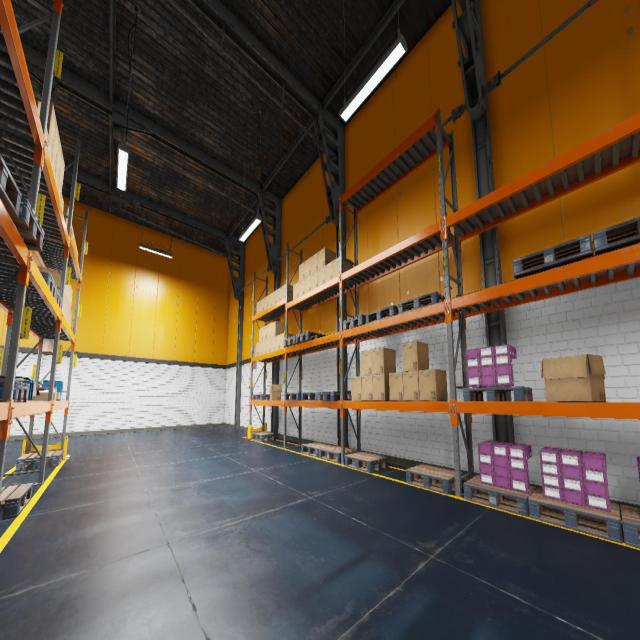box: (541, 354, 606, 402), (37, 265, 67, 300), (419, 368, 447, 401), (40, 96, 56, 152), (402, 341, 429, 372), (372, 347, 396, 375), (372, 374, 390, 401), (403, 370, 419, 400), (389, 372, 404, 401), (333, 256, 353, 277), (318, 247, 336, 270), (361, 375, 373, 401), (361, 350, 372, 376), (280, 332, 296, 349), (53, 122, 59, 167), (39, 386, 57, 400), (56, 138, 62, 180), (59, 152, 65, 192), (351, 376, 361, 400), (268, 384, 282, 400), (271, 321, 285, 337), (33, 91, 41, 115), (281, 284, 293, 300), (325, 261, 333, 282), (311, 252, 318, 274), (311, 270, 318, 290), (318, 266, 325, 286), (63, 204, 69, 227), (31, 392, 48, 400), (305, 257, 311, 278), (51, 154, 56, 178), (304, 274, 310, 294), (54, 169, 59, 191), (48, 137, 52, 164), (299, 262, 304, 282), (69, 288, 73, 311), (299, 278, 304, 296), (293, 282, 298, 299), (275, 334, 280, 350), (60, 193, 64, 212), (68, 283, 71, 308), (276, 287, 281, 302), (62, 297, 66, 315), (266, 338, 271, 352), (271, 336, 275, 352), (267, 323, 271, 339), (262, 325, 266, 341), (268, 292, 272, 308), (58, 182, 61, 202), (262, 339, 266, 354), (259, 327, 263, 342), (66, 285, 69, 304), (272, 290, 276, 304), (264, 296, 268, 310), (260, 298, 264, 312), (64, 301, 67, 319), (255, 343, 259, 356), (256, 301, 260, 314), (66, 306, 69, 322), (69, 312, 72, 328), (259, 341, 262, 355), (46, 128, 48, 148), (56, 392, 60, 400), (56, 285, 60, 293), (68, 310, 70, 326), (71, 224, 73, 236), (74, 238, 76, 248), (75, 244, 77, 254), (73, 231, 74, 242), (77, 250, 78, 259)
pallets: (528, 488, 622, 543), (512, 234, 594, 278), (463, 475, 536, 517), (592, 216, 640, 256), (11, 196, 44, 251), (406, 464, 464, 494), (0, 153, 22, 218), (0, 483, 33, 519), (462, 386, 532, 402), (398, 292, 445, 314), (15, 450, 64, 470), (620, 504, 640, 548), (345, 452, 388, 472), (0, 381, 30, 402), (366, 305, 398, 324), (318, 446, 356, 462), (301, 442, 334, 457), (40, 270, 56, 299), (343, 314, 372, 330), (296, 331, 326, 343), (317, 391, 351, 401), (284, 392, 314, 400), (252, 431, 276, 441), (284, 336, 302, 347), (301, 392, 323, 400), (55, 288, 62, 310), (252, 395, 269, 400)
